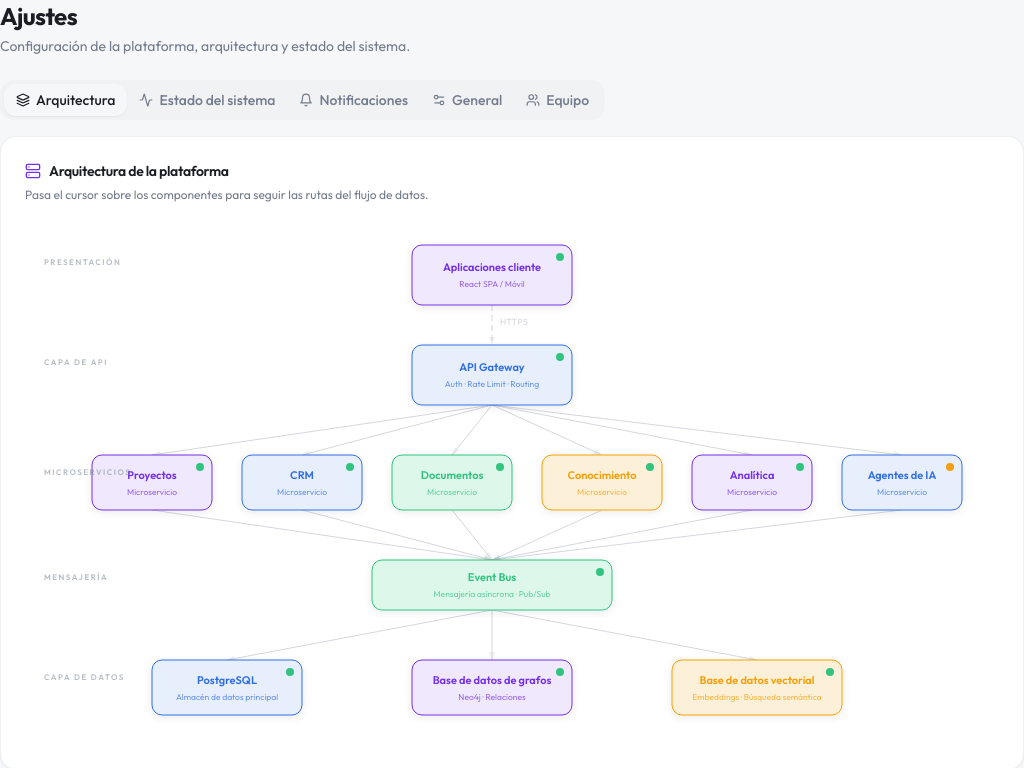
Test: Settings, in Spanish › system health › shows each service with a translated status and a formatted latency
Press the mouse on the tab "Estado del sistema" at (207, 100), box x1=127 y1=84 x2=287 y2=116
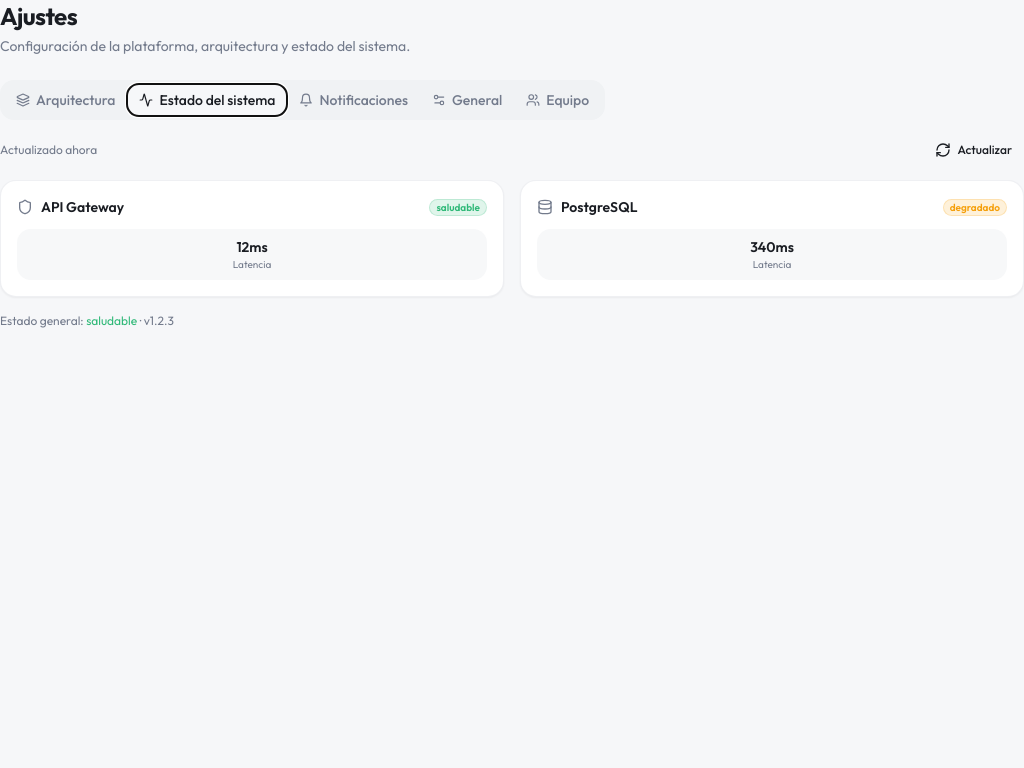
Expected: the text "saludable" in the row of "API Gateway" is shown, x1=436 y1=200 x2=480 y2=214
Expected: the text "degradado" is shown, x1=943 y1=198 x2=1007 y2=216
Expected: the text "12ms" is shown, x1=236 y1=238 x2=268 y2=256
